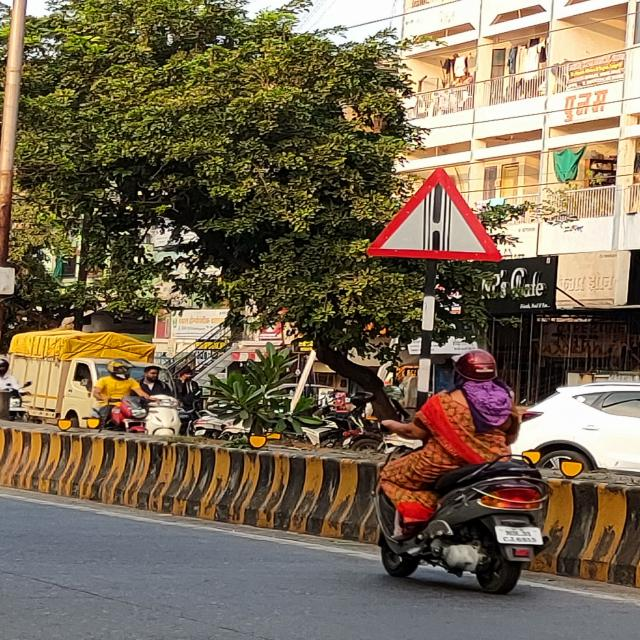GAP_IN_MEDIAN: (366, 167, 503, 262)
